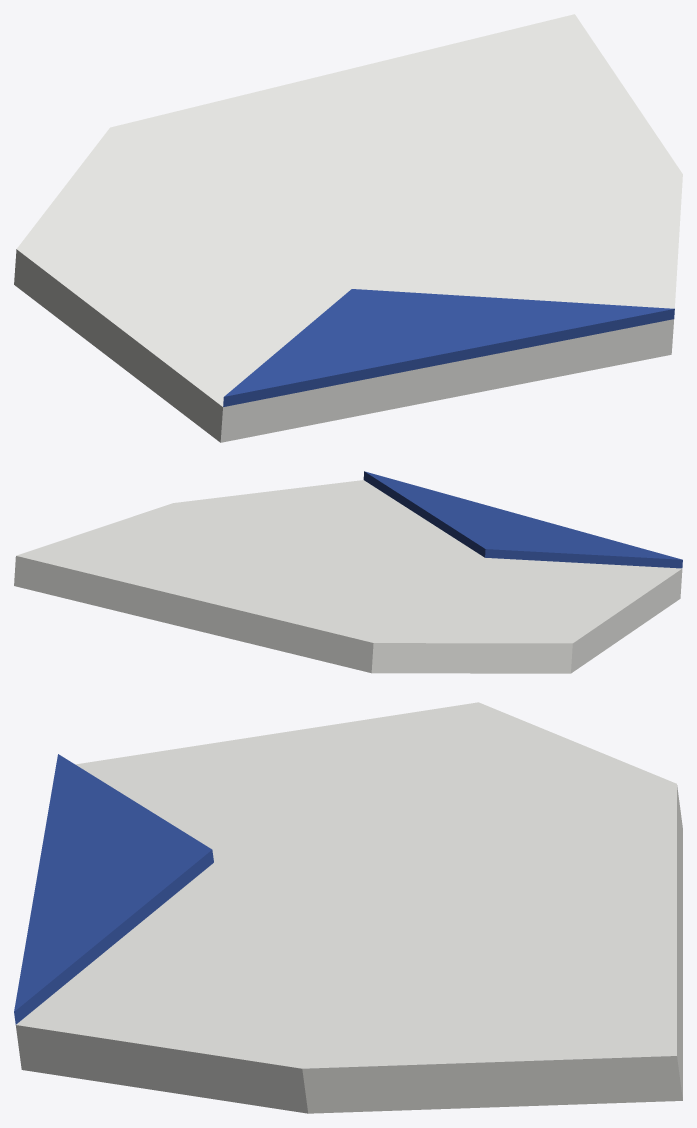
Rendered from ceramic_shard.glb.
3 views of the same model, one above another, from view 1: azimuth 30°, elevation 25°; view 2: azimuth 150°, elevation 25°; view 3: azimuth 270°, elevation 25° (orthographic). The views are drawn at different scales.
Parts seen in each view (by area): view 1: block_shard, block_rim; view 2: block_shard, block_rim; view 3: block_shard, block_rim.
Part boxes in pixels (<box>): block_shard: <box>14,14,682,442</box>; block_rim: <box>223,289,674,406</box>; block_shard: <box>14,480,682,673</box>; block_rim: <box>363,471,682,568</box>; block_shard: <box>15,702,682,1113</box>; block_rim: <box>14,754,213,1024</box>.
Bounding box in the file's own units: 0.08 × 0.0117 × 0.0603.
Materials: 1 (1 with a texture image).
